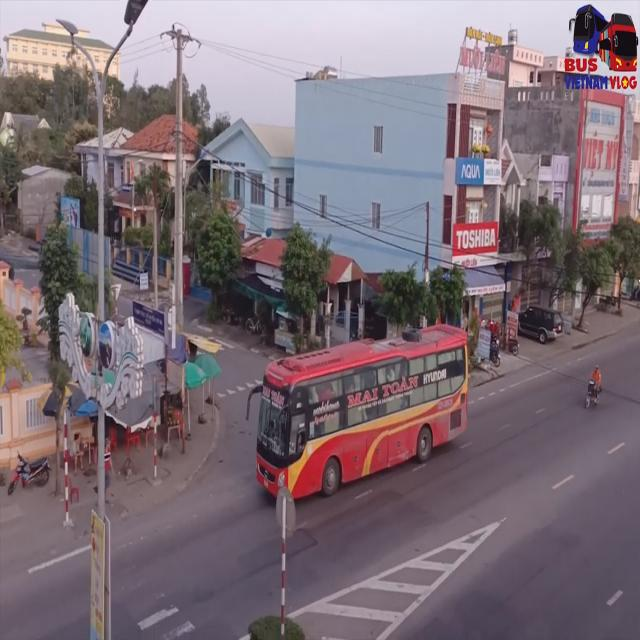bus: (258, 333, 474, 512)
motorbike: (582, 364, 602, 418)
